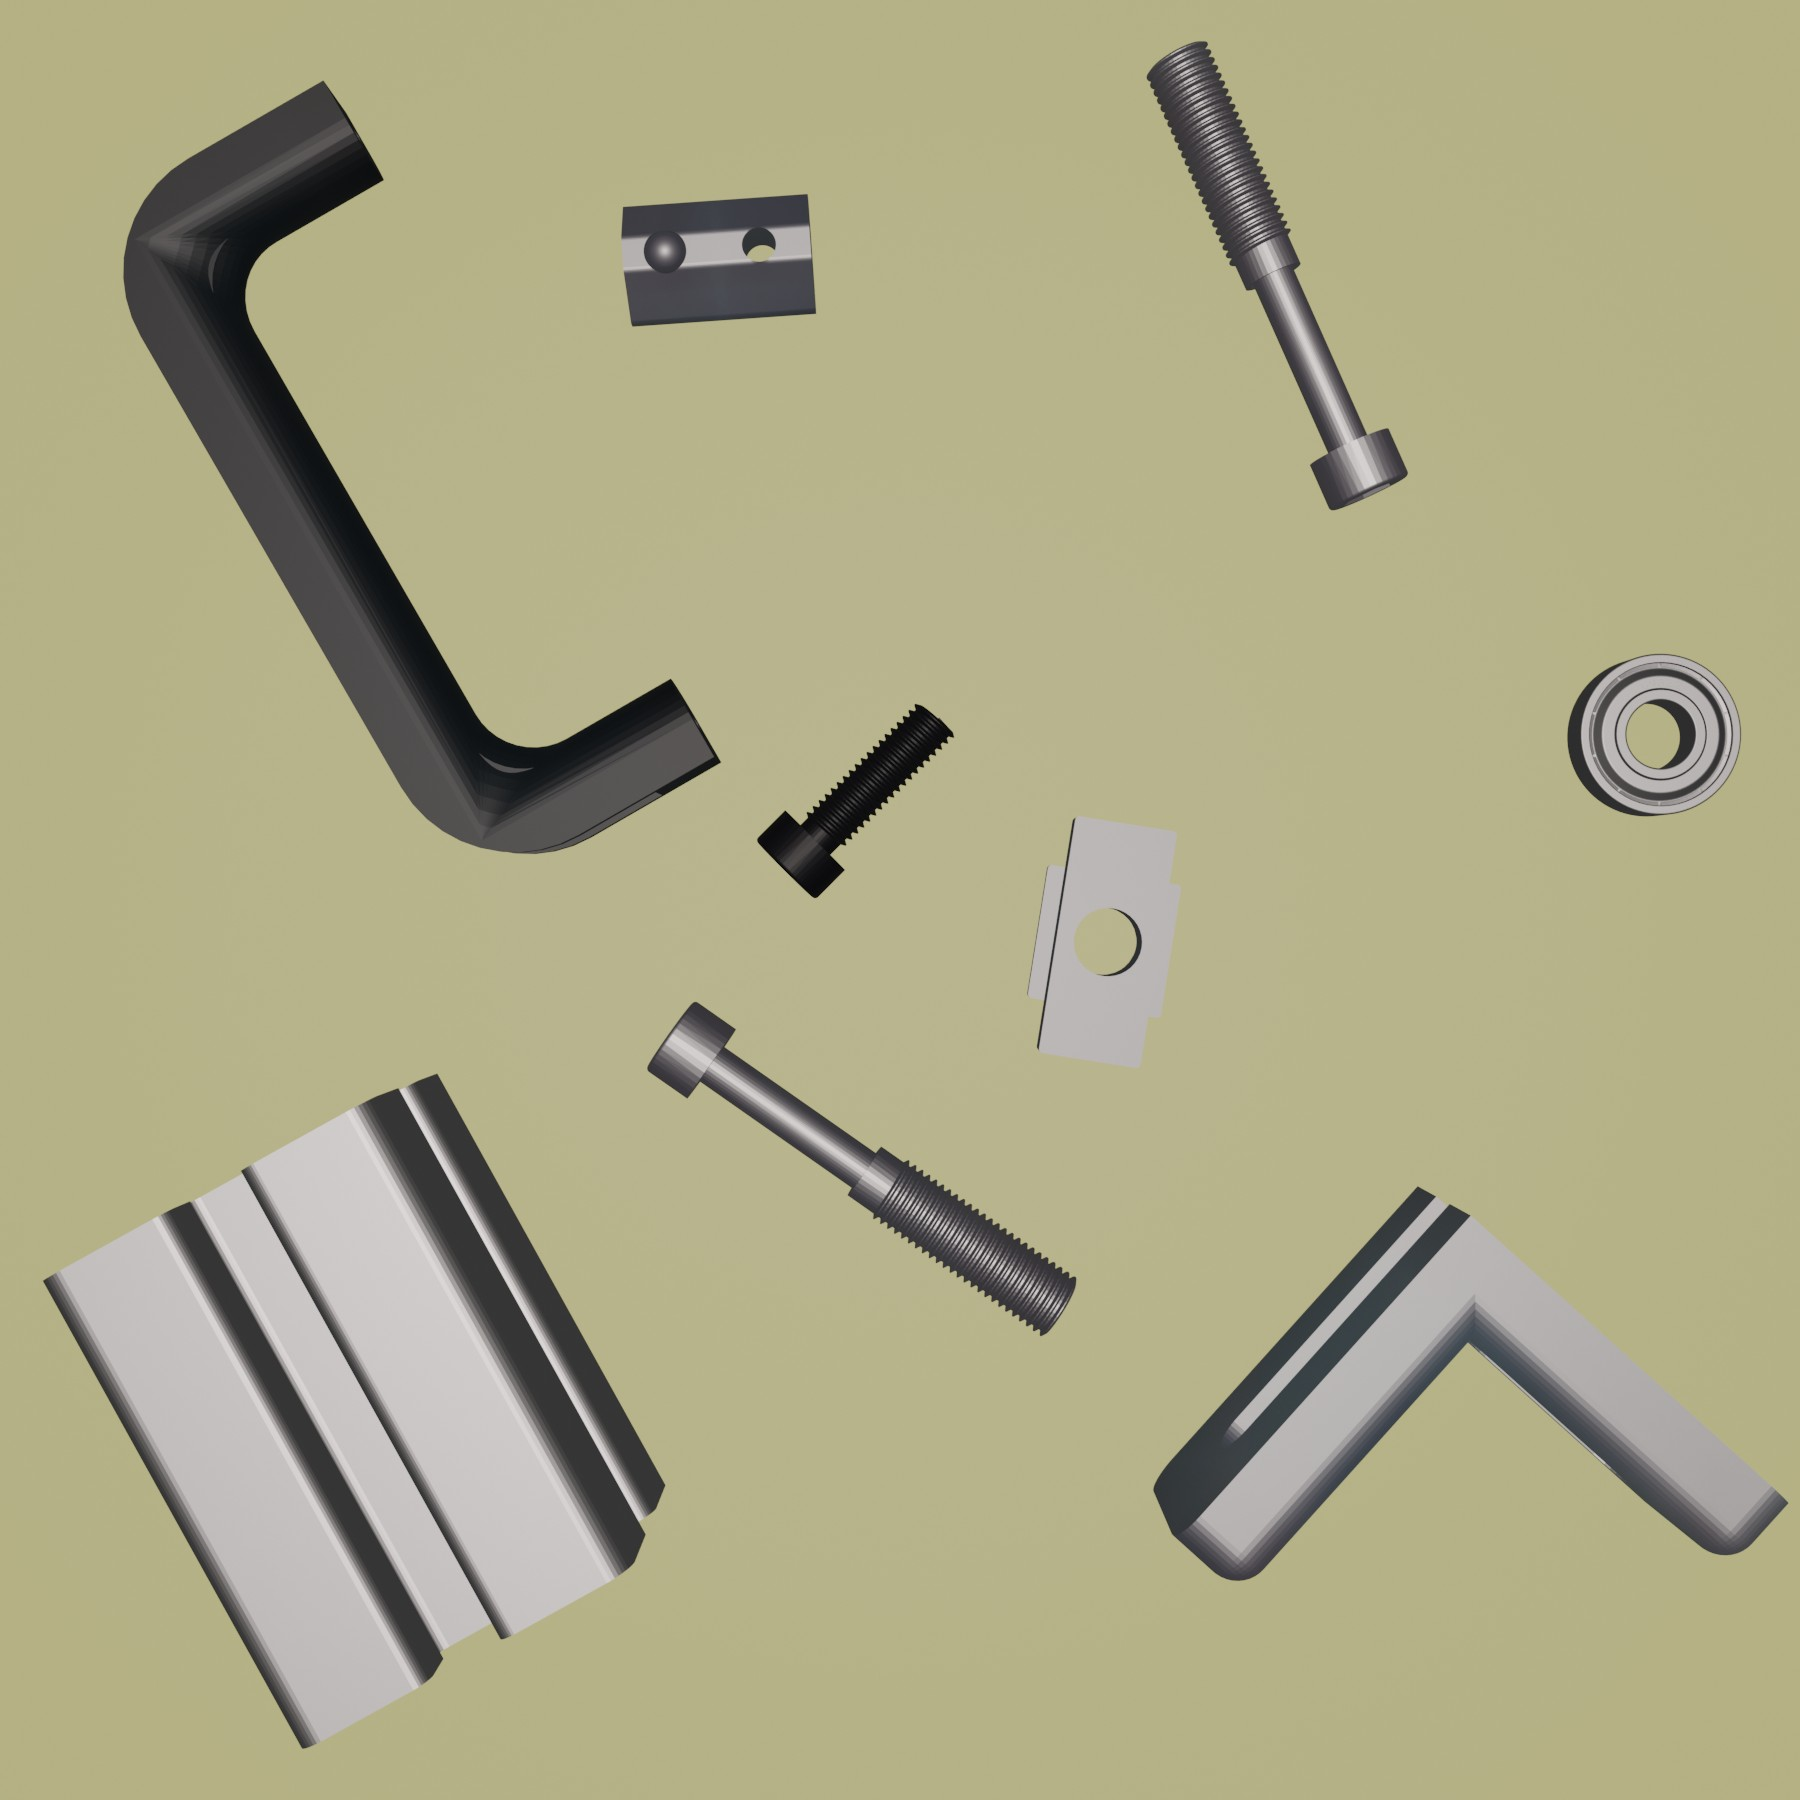Aluminium Extension: (41, 1070, 668, 1752)
Ball Bearing: (1563, 649, 1744, 819)
Multiwinkel: (1152, 1184, 1788, 1582)
Pull Handle: (120, 77, 724, 859)
Shoulder Socket Head Cap Screw: (645, 1001, 1078, 1337), (1142, 36, 1409, 513)
Socket Head Cap Screw: (755, 699, 958, 902)
T Nut Square: (1024, 813, 1185, 1071)
T Spring Nut: (616, 191, 819, 330)
